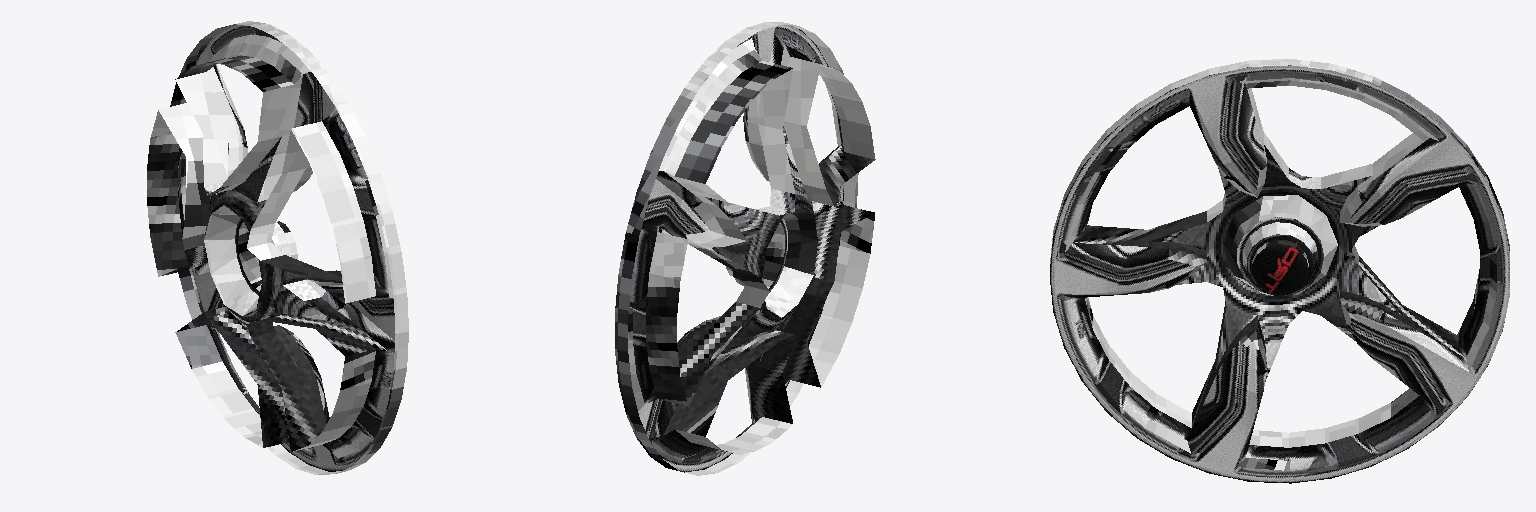
3 views of the same model, side by side, from view 1: azimuth 30°, elevation 25°; view 2: azimuth 150°, elevation 25°; view 3: azimuth 270°, elevation 25° (orthographic).
Parts seen in each view (by area): view 1: Rin3_Carro; view 2: Rin3_Carro; view 3: Rin3_Carro.
Boxes of the visible parts, x1,y1,x2,y2 form: Rin3_Carro: [147, 21, 408, 474]; Rin3_Carro: [615, 22, 875, 475]; Rin3_Carro: [1050, 59, 1509, 483].
Size of the model in its own units: 3.33 by 17.59 by 17.57.
Materials: 1 (1 with a texture image).